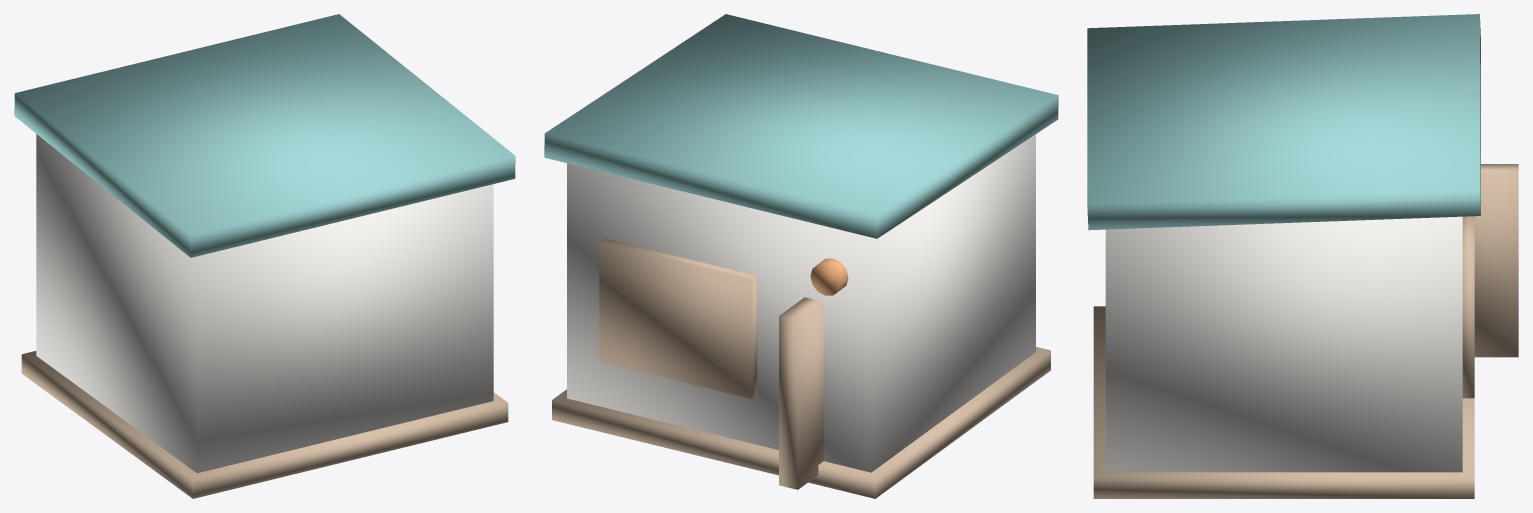
The model's file is small_cafe.glb.
The picture shows the model from 3 angles, left to right: view 1: azimuth 30°, elevation 25°; view 2: azimuth 150°, elevation 25°; view 3: azimuth 270°, elevation 25°; orthographic projection. The views are drawn at different scales.
Visible parts, largest first — view 1: cafe_body, cafe_roof, cafe_floor; view 2: cafe_body, cafe_roof, cafe_window_frame, cafe_floor, cafe_door, sign_cup; view 3: cafe_body, cafe_roof, cafe_floor, cafe_door, cafe_window_frame.
Part boxes in pixels (x1,y1,x2,y2): cafe_body: (36,134,493,473); cafe_roof: (14,14,515,257); cafe_floor: (21,351,508,498); cafe_body: (567,134,1035,472); cafe_roof: (544,14,1058,238); cafe_window_frame: (599,238,757,398); cafe_floor: (552,347,1050,498); cafe_door: (779,297,823,489); sign_cup: (810,258,848,295); cafe_body: (1105,216,1462,472); cafe_roof: (1087,14,1480,230); cafe_floor: (1093,306,1474,498); cafe_door: (1474,164,1518,357); cafe_window_frame: (1462,216,1474,398).
Size of the model in its own units: 1.75 by 1.44 by 1.81.
